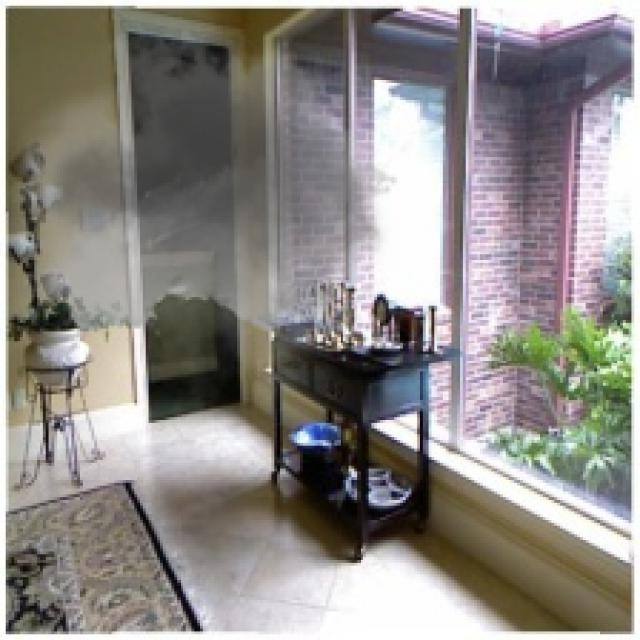smoke: (9, 9, 412, 414)
